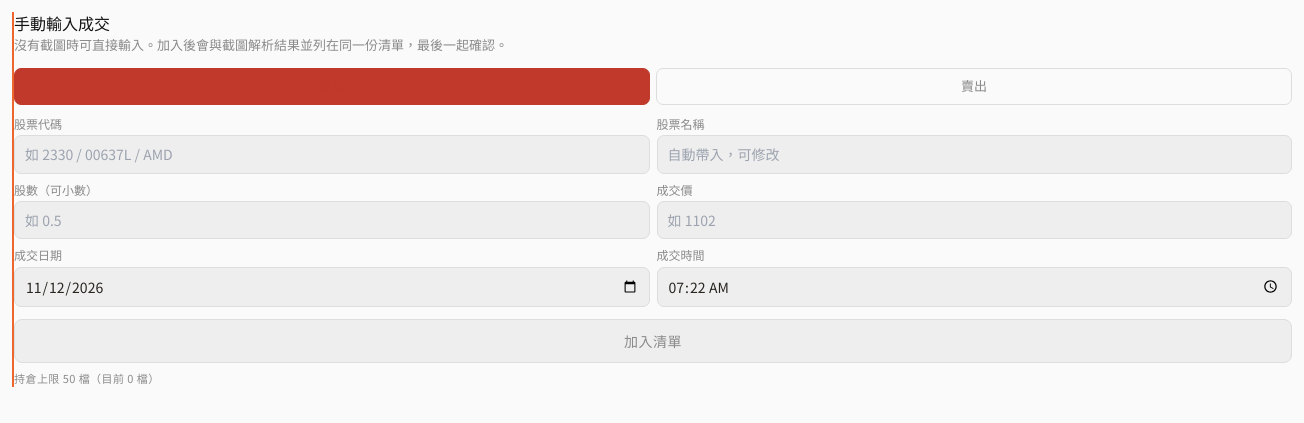
Scenario: B — 手動名稱 vs 晚到 resolver › 送出重置後，前一列的晚到 resolver 不得污染下一列
The width and height of the screenshot is (1304, 423).
Type "2207" into the field named "股票代碼" at point(332, 154), box [14, 135, 650, 174]
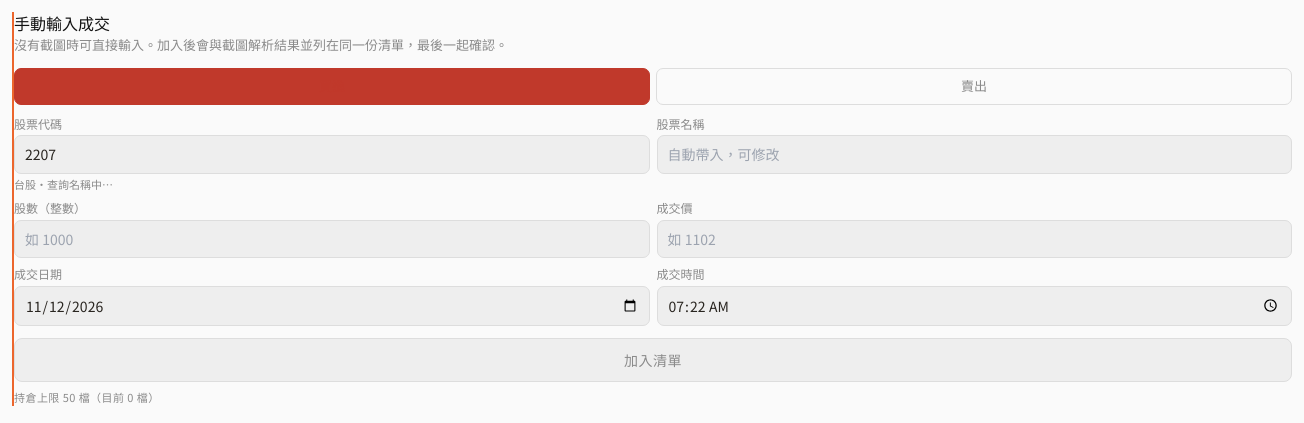
Type "和泰車" into the field named "股票名稱" at point(974, 154), box [656, 135, 1292, 174]
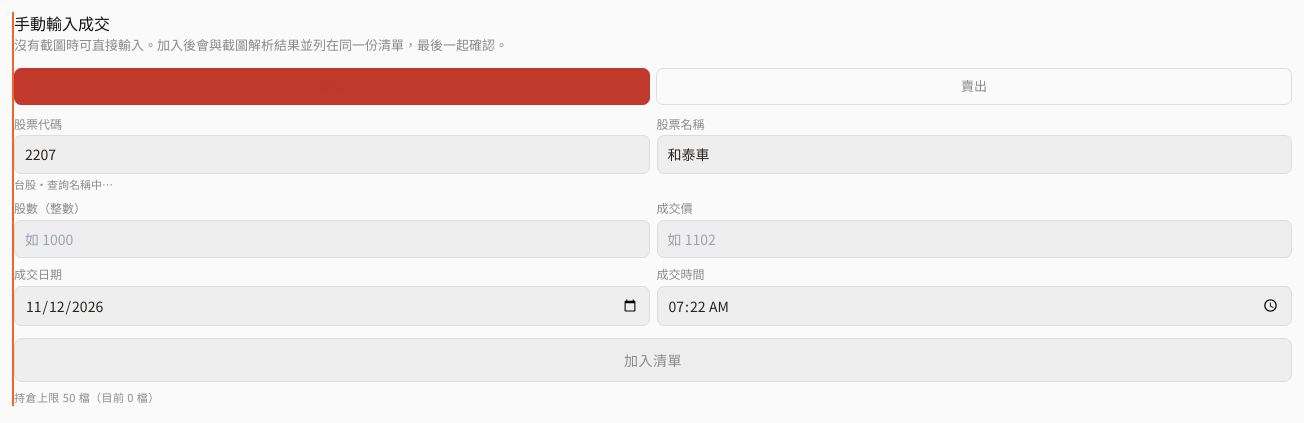
Type "1" into the field named "股數" at point(332, 239), box [14, 220, 650, 258]
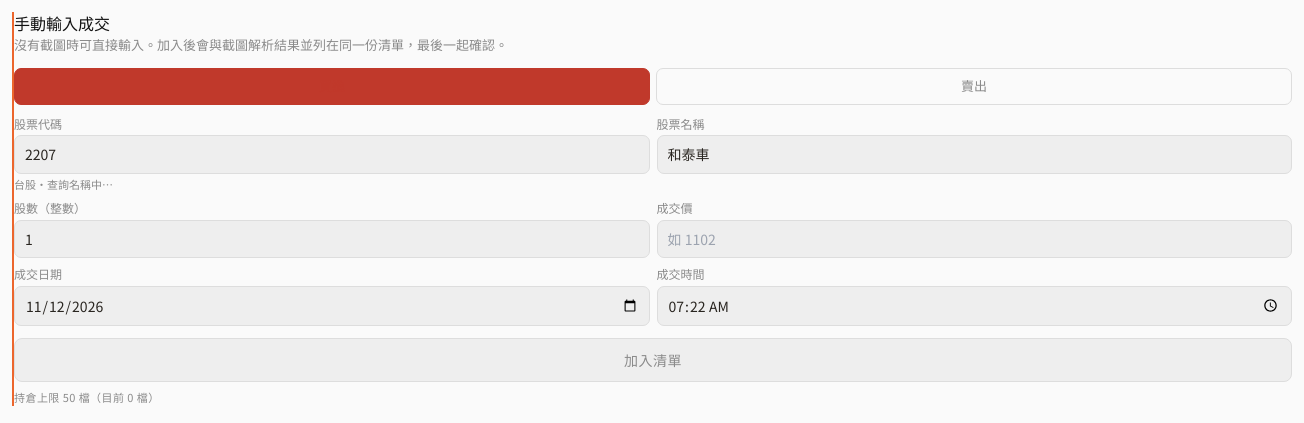
Type "100" into the field named "成交價" at point(974, 239), box [656, 220, 1292, 258]
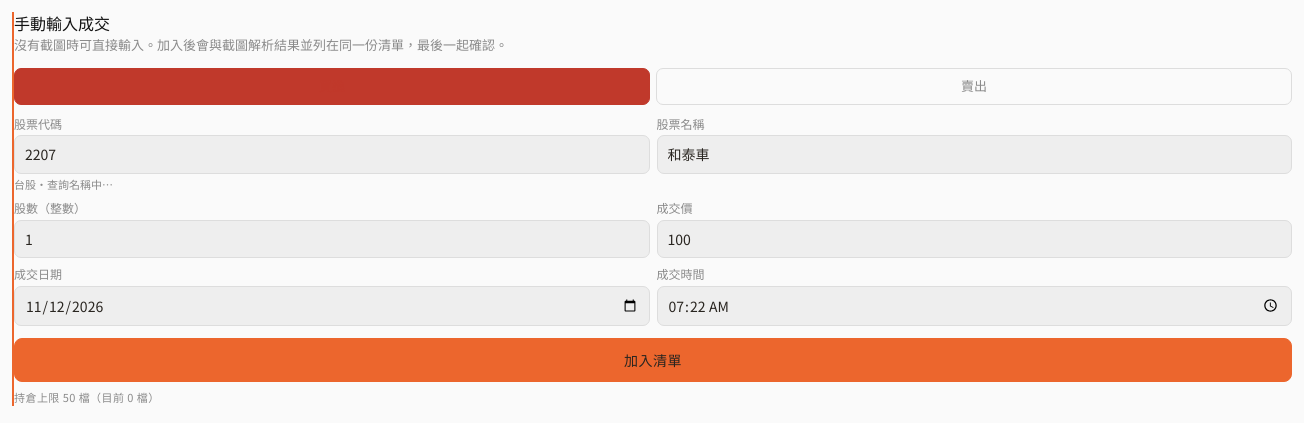
Click the button with aria-label "加入這筆成交" at point(653, 360), box [14, 338, 1292, 382]
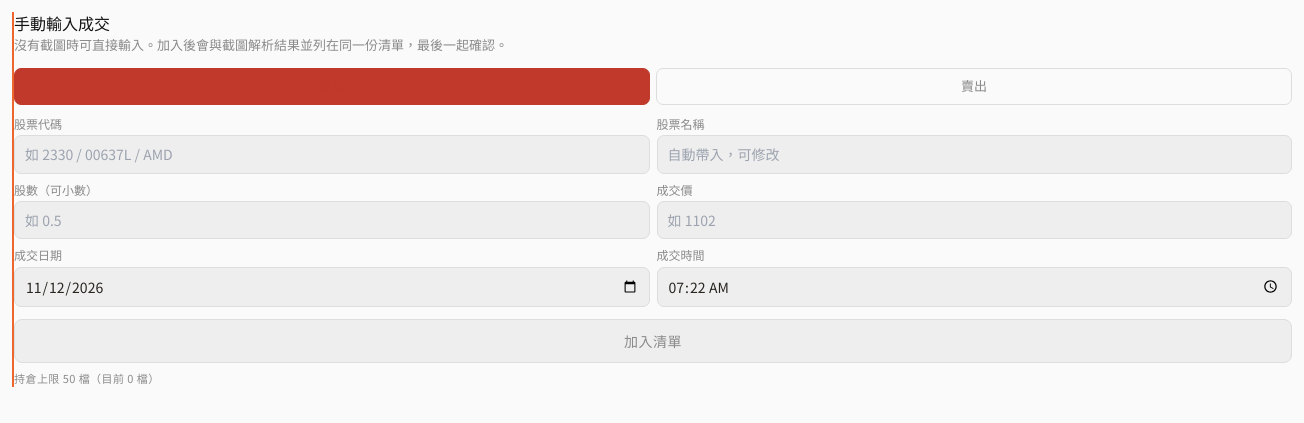
Result: the field named "股票名稱" is empty at [656, 135, 1292, 174]
Result: the field named "股票代碼" is empty at [14, 135, 650, 174]
